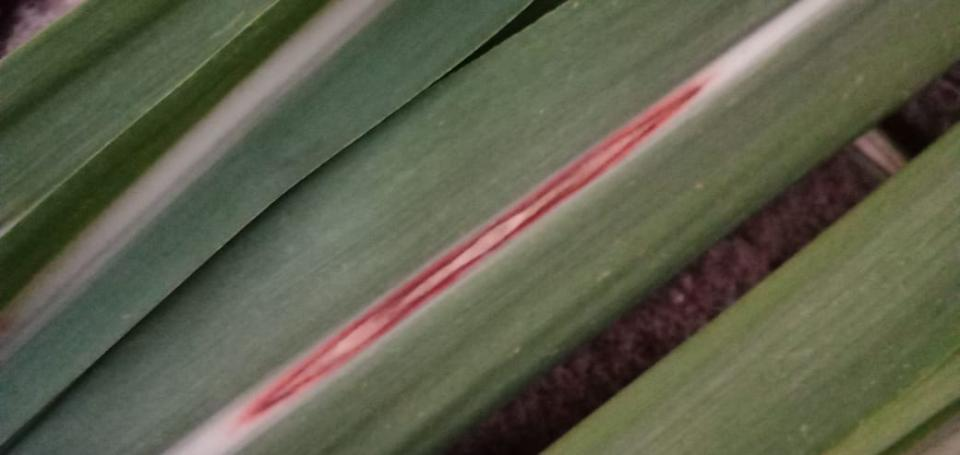RedRot: (233, 74, 716, 426)
